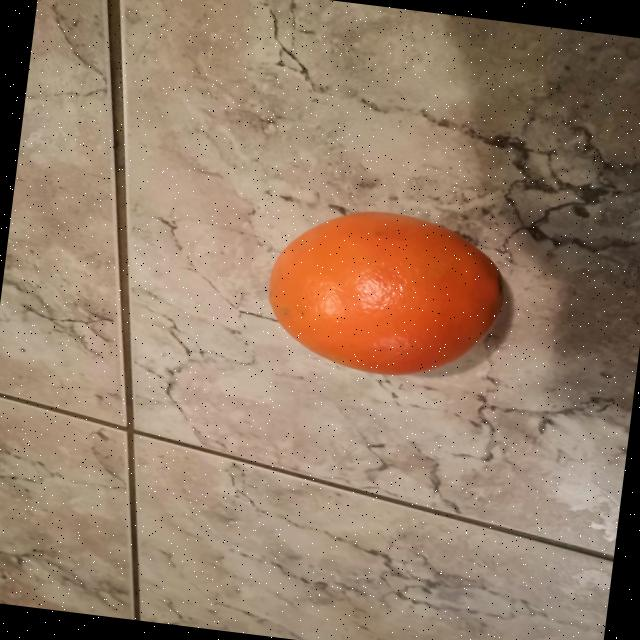orange: (269, 210, 503, 374)
